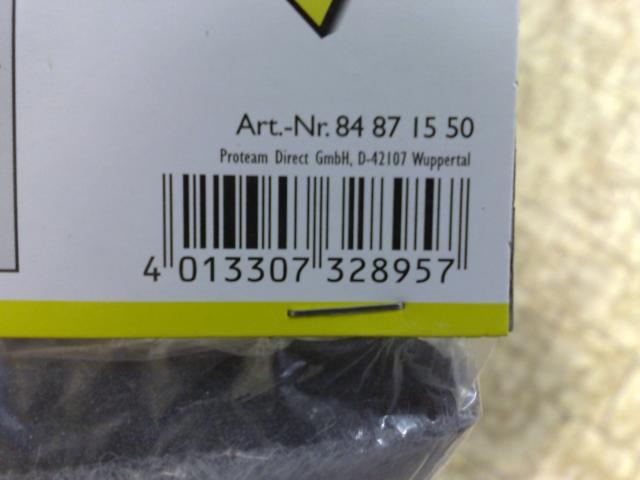Barcode: (138, 170, 478, 294)
